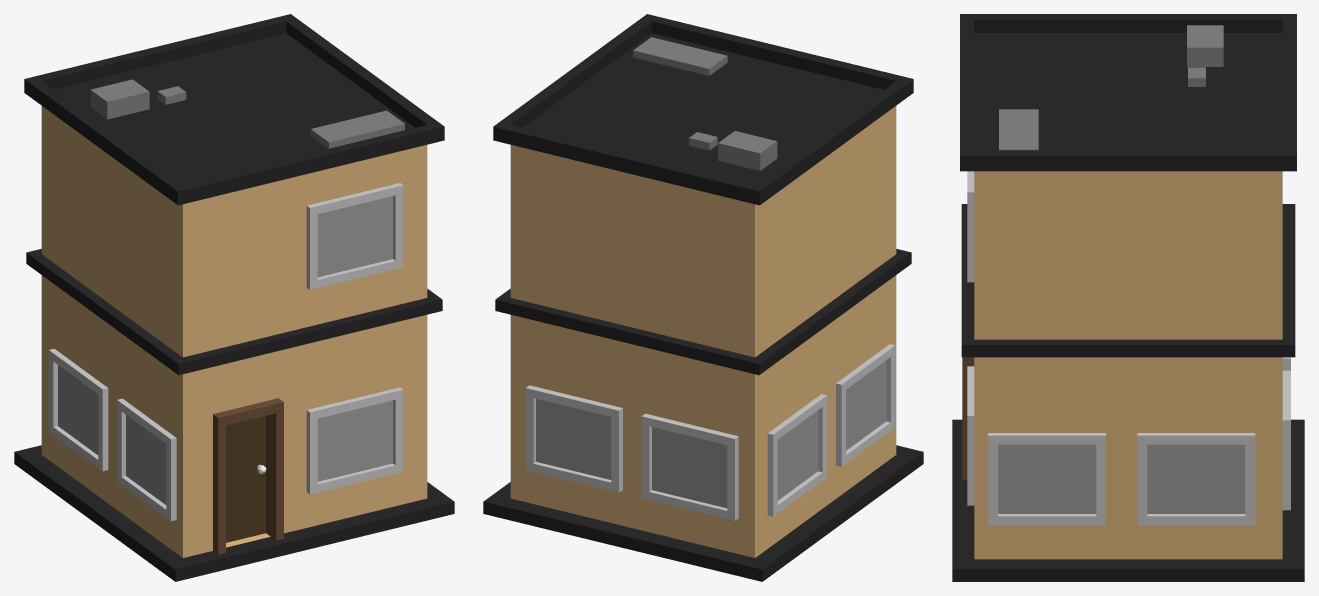
Rendered from buildings2.fbx.
3 views of the same model, side by side, from view 1: azimuth 30°, elevation 25°; view 2: azimuth 150°, elevation 25°; view 3: azimuth 270°, elevation 25° (orthographic). The views are drawn at different scales.
Parts seen in each view (by area): view 1: Cube; view 2: Cube; view 3: Cube.
Boxes of the visible parts, left/top/right/bottom form: Cube: left=14, top=14, right=454, bottom=581; Cube: left=483, top=14, right=923, bottom=581; Cube: left=952, top=14, right=1304, bottom=581.
Size of the model in its own units: 597 by 802 by 597.
